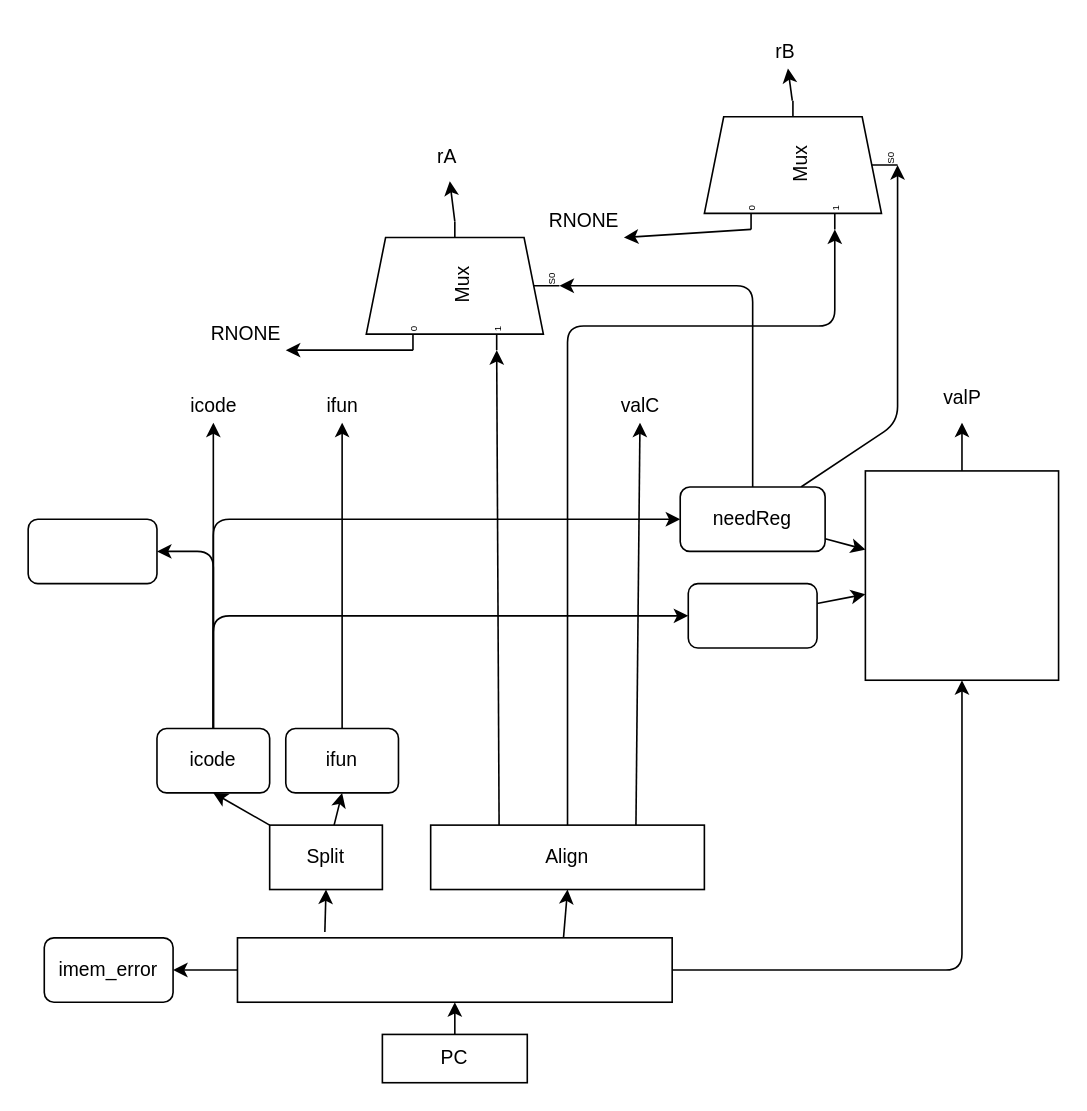
This 1087x1111 diagram has some shape labels left out. Each missing label, with the centre of its shape:
"instr_valid" belongs at point (92, 551).
"needValC" belongs at point (752, 615).
"PC增加" belongs at point (961, 574).
"指令内存" belongs at point (454, 969).
